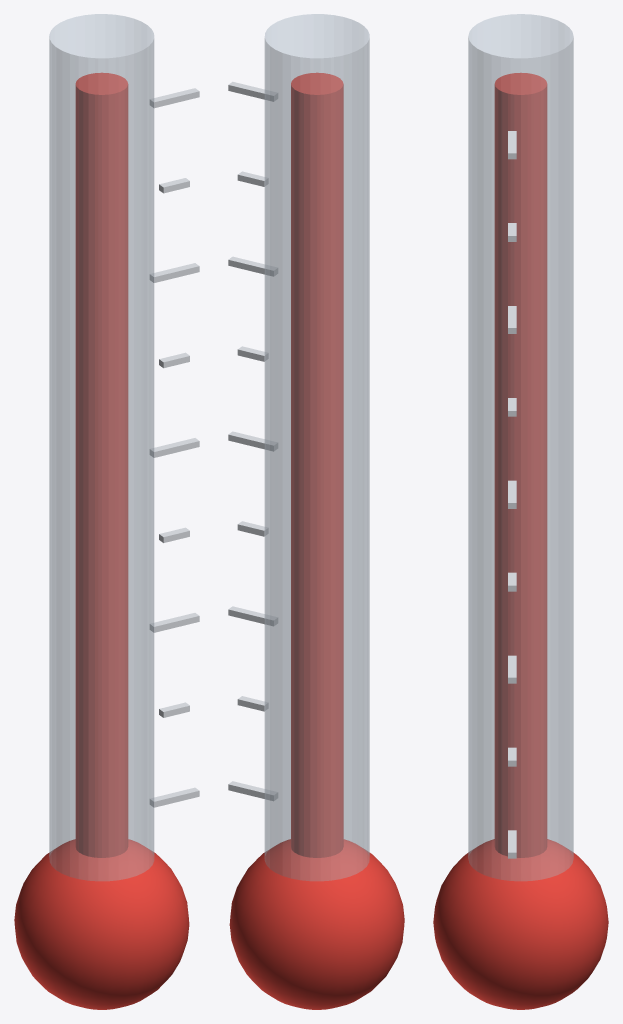
The model's file is termometro.glb.
3 renders of one model, left to right at view 1: azimuth 30°, elevation 25°; view 2: azimuth 150°, elevation 25°; view 3: azimuth 270°, elevation 25°, orthographic.
Parts seen in each view (by area): view 1: Cylinder, mercurio, Sphere, Cube, Cube.008, Cube.002, Cube.004, Cube.006; view 2: Cylinder, mercurio, Sphere, Cube.002, Cube.006, Cube.004, Cube, Cube.008; view 3: Cylinder, mercurio, Sphere.
Part boxes in pixels (x1,y1,x2,y2): Cylinder: [49, 14, 154, 880]; mercurio: [75, 72, 128, 857]; Sphere: [14, 839, 189, 1009]; Cube: [150, 787, 199, 807]; Cube.008: [150, 88, 199, 108]; Cube.002: [150, 613, 199, 632]; Cube.004: [150, 438, 199, 457]; Cube.006: [150, 263, 199, 282]; Cylinder: [264, 14, 369, 880]; mercurio: [291, 72, 343, 857]; Sphere: [229, 839, 404, 1009]; Cube.002: [228, 606, 277, 626]; Cube.006: [228, 256, 277, 276]; Cube.004: [228, 431, 277, 451]; Cube: [228, 781, 277, 800]; Cube.008: [228, 81, 277, 101]; Cylinder: [468, 14, 573, 880]; mercurio: [494, 73, 547, 857]; Sphere: [433, 839, 608, 1009].
Size of the model in its own units: 0.44 by 2.43 by 0.4.
